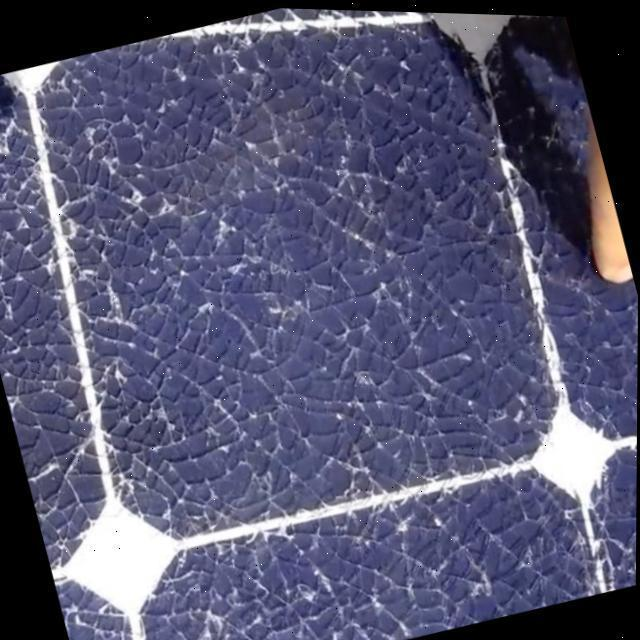Anomaly Solar Panel: (0, 6, 638, 640)
Structural Damage: (27, 6, 430, 457), (0, 66, 183, 640), (152, 503, 414, 640)
